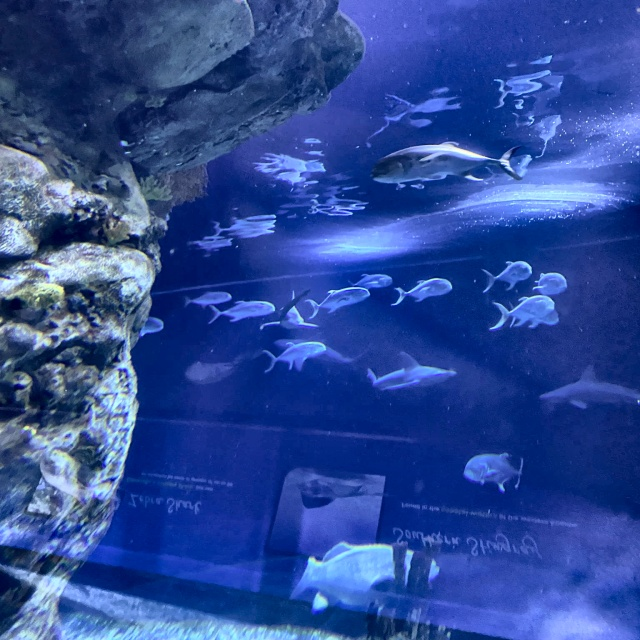fish: (290, 542, 440, 611), (373, 139, 520, 184), (489, 296, 558, 329), (465, 452, 523, 491), (306, 288, 369, 318), (262, 342, 325, 372), (392, 278, 452, 305), (482, 261, 532, 292), (209, 301, 276, 322), (184, 290, 232, 307), (532, 273, 566, 294), (132, 318, 166, 336), (350, 274, 392, 288)
shark: (540, 364, 639, 408), (367, 352, 456, 390), (260, 288, 318, 330), (275, 338, 367, 364)
